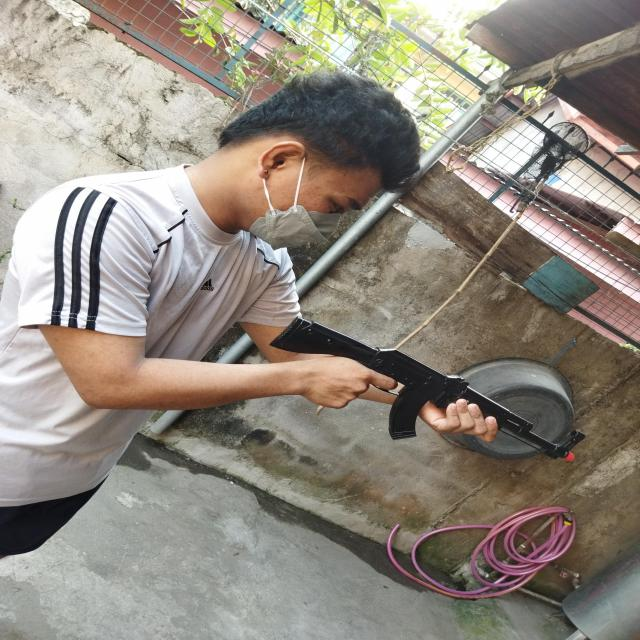rifle: (269, 317, 585, 462)
